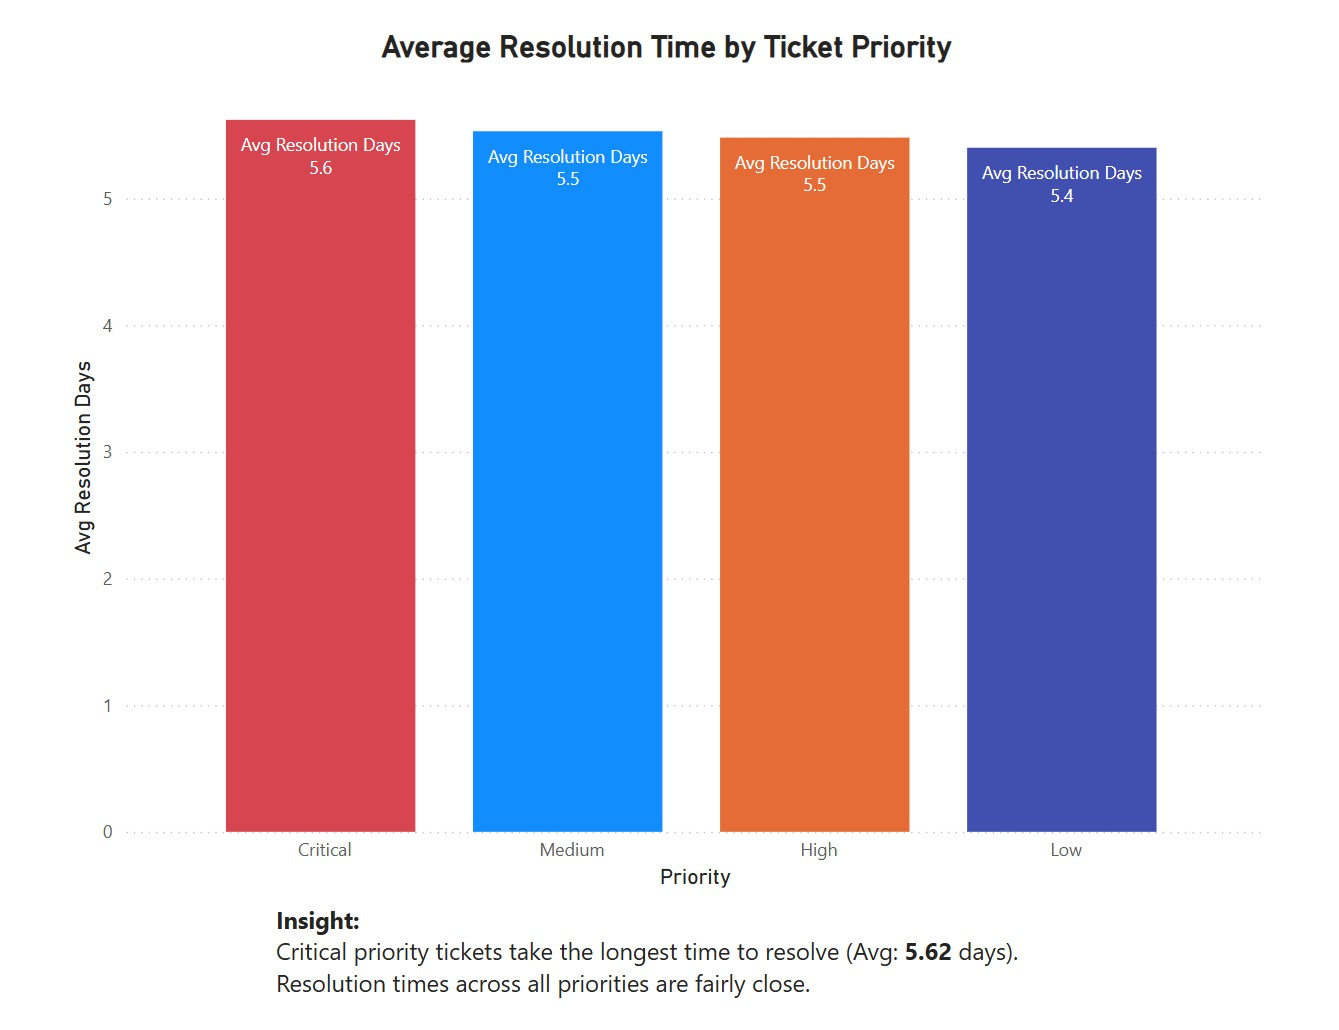

The page's visual inventory and layout, read from the dashboard file:
{"tool":"powerbi","page":{"name":"Average Resolution Time by Ticket Priority","canvas":[1280,720],"ordinal":0},"visuals":[{"type":"clusteredColumnChart","title":"Average Resolution Time by Ticket Priority","fields":{"Category":["avg_resolution_priority csv.Priority"],"Y":["Sum(avg_resolution_priority csv.Avg_Resolution_Days)"]},"box":[77,30.4,815.6,585.6],"z":0},{"type":"textbox","box":[215.8,616,540,95.2],"z":1}]}

Visuals, with their boxes on the page's 1280x720 design canvas (x1, y1, x2, y2). These are canvas units, not pixel positions in the 1339x1030 screenshot, which may show the page scaled, cropped or inside an application window:
"Average Resolution Time by Ticket Priority" clusteredColumnChart: 77:30:893:616
textbox: 216:616:756:711
